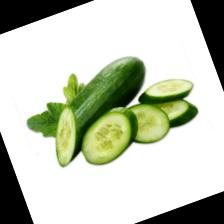cucumber: (30, 48, 168, 168)
